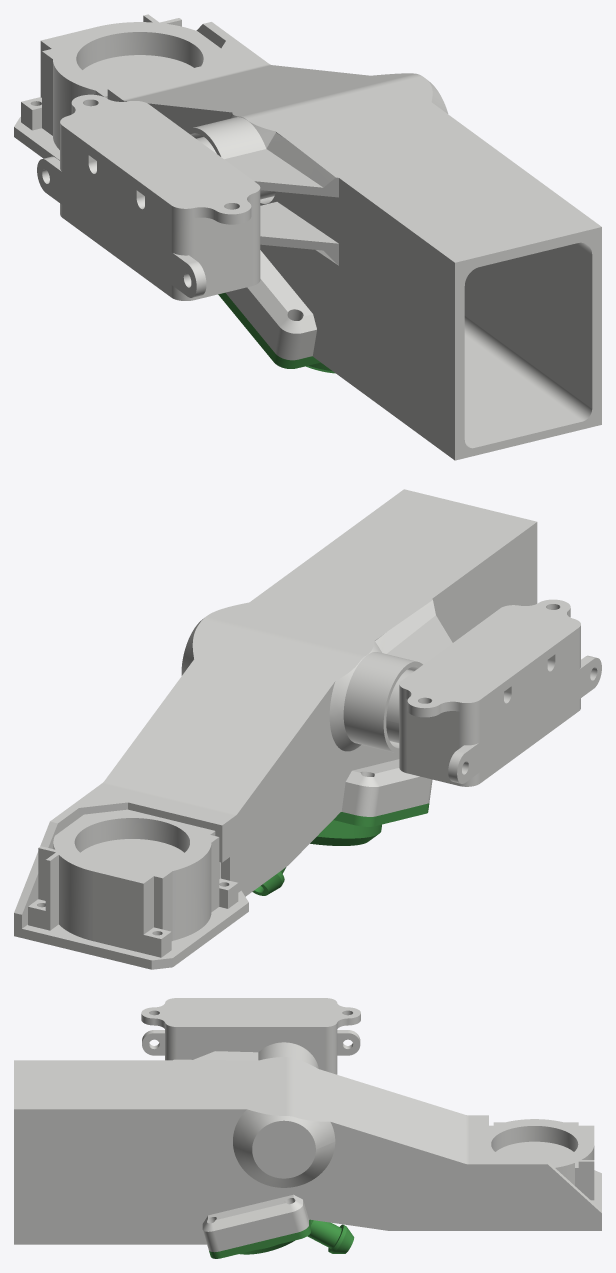
The model's file is electro-mist-v6.glb.
3 views of the same model, one above another, from view 1: azimuth 30°, elevation 25°; view 2: azimuth 150°, elevation 25°; view 3: azimuth 270°, elevation 25° (orthographic). The views are drawn at different scales.
Parts seen in each view (by area): view 1: =>[0:1:1:7], dbd:3, 风机:1, lid:1; view 2: =>[0:1:1:7], dbd:3, 风机:1, lid:1; view 3: =>[0:1:1:7], dbd:3, 风机:1, lid:1.
Part boxes in pixels (box(x1,y1,x2,y2)): =>[0:1:1:7]: box(14, 22, 601, 460); dbd:3: box(37, 94, 275, 300); 风机:1: box(21, 14, 220, 149); lid:1: box(218, 292, 335, 373); =>[0:1:1:7]: box(14, 489, 537, 969); dbd:3: box(386, 599, 601, 786); 风机:1: box(28, 809, 238, 957); lid:1: box(252, 803, 429, 895); =>[0:1:1:7]: box(14, 1042, 601, 1252); dbd:3: box(141, 998, 360, 1074); 风机:1: box(489, 1119, 594, 1202); lid:1: box(209, 1219, 354, 1258).
Bounding box in the file's own units: 0.0696 × 0.051 × 0.152.
